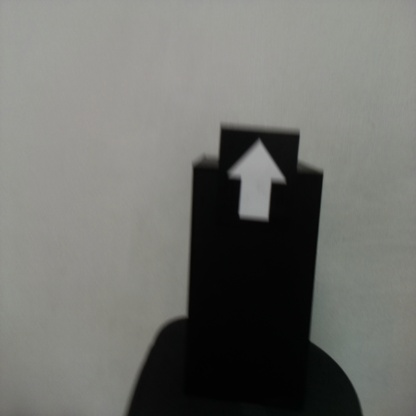id_1: (219, 130, 298, 245)
